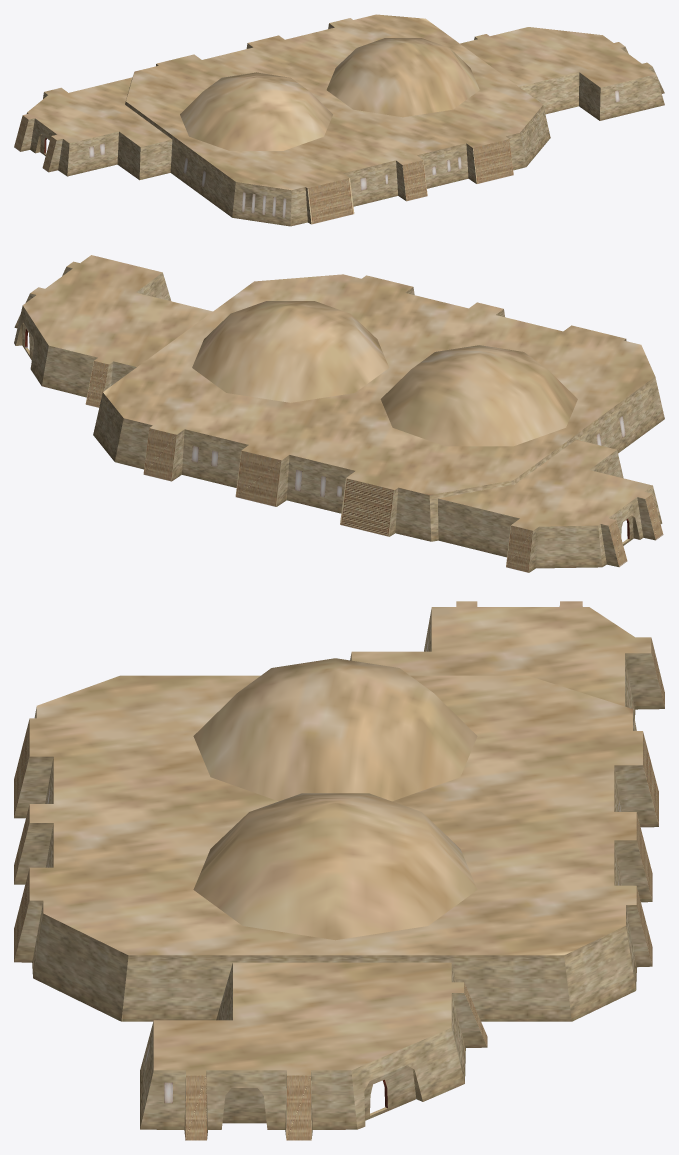
The model's file is thm_tato_cantina_r0_mesh_r0_l4.fbx.
The picture shows the model from 3 angles, top to bottom: view 1: azimuth 30°, elevation 25°; view 2: azimuth 150°, elevation 25°; view 3: azimuth 270°, elevation 25°; orthographic projection. The views are drawn at different scales.
Parts seen in each view (by area): view 1: mesh_node; view 2: mesh_node; view 3: mesh_node.
Part boxes in pixels (x1,y1,x2,y2): mesh_node: (14, 14, 664, 226); mesh_node: (14, 255, 664, 572); mesh_node: (14, 601, 664, 1140).
Bounding box in the file's own units: 106 × 13.74 × 59.27.
